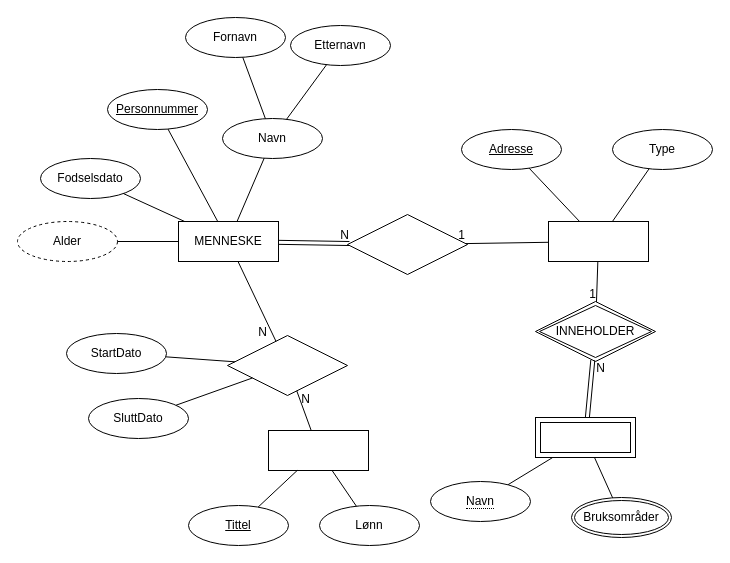
Image size: 730x563. Some labels were removed from this diagram. Here are the shapes that lost their labels. From the top down, the centre of each, then its label:
At point (407, 244): "BOR_I".
At point (598, 241): "BOLIG".
At point (287, 365): "UTFØRER".
At point (318, 450): "YRKE".
At point (585, 437): "ROM".
